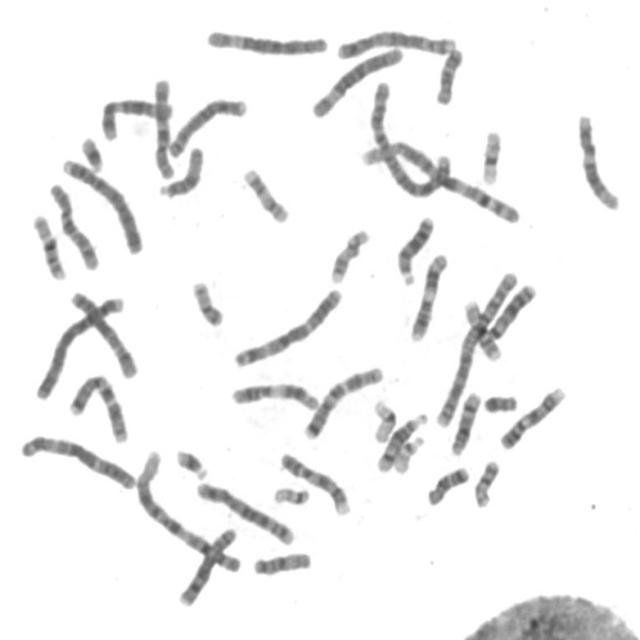A1: (363, 77, 522, 227), (130, 442, 244, 576)
A2: (432, 264, 524, 430), (364, 75, 453, 201)
A3: (228, 280, 346, 370), (14, 427, 140, 492)
B4: (29, 288, 128, 402), (57, 152, 146, 256)
B5: (191, 475, 297, 547), (332, 23, 460, 61)
C10: (44, 176, 102, 272), (148, 71, 178, 180)
C11: (405, 246, 451, 344), (225, 376, 323, 412)
C12: (573, 107, 623, 212), (96, 90, 174, 142)
C6: (306, 40, 406, 120), (200, 22, 332, 58)
C7: (298, 359, 386, 441), (63, 367, 132, 444)
C8: (162, 90, 250, 160), (172, 520, 240, 608)
C9: (274, 446, 354, 517), (495, 379, 569, 451)
D13: (483, 276, 538, 342), (392, 208, 437, 286)
D14: (372, 406, 430, 474), (446, 384, 485, 457)
D15: (154, 140, 206, 200), (248, 545, 313, 578)
E16: (26, 207, 69, 282), (458, 292, 504, 362)
E17: (238, 160, 292, 225), (325, 222, 372, 285)
E18: (422, 458, 472, 508), (429, 41, 466, 106)
F19: (476, 122, 505, 186), (367, 393, 399, 444)
F20: (186, 273, 226, 328), (469, 454, 502, 509)
G21: (170, 441, 211, 482), (76, 130, 106, 173)
G22: (389, 430, 427, 475), (268, 479, 312, 506)
X: (65, 284, 140, 380)
Y: (478, 387, 520, 414)
